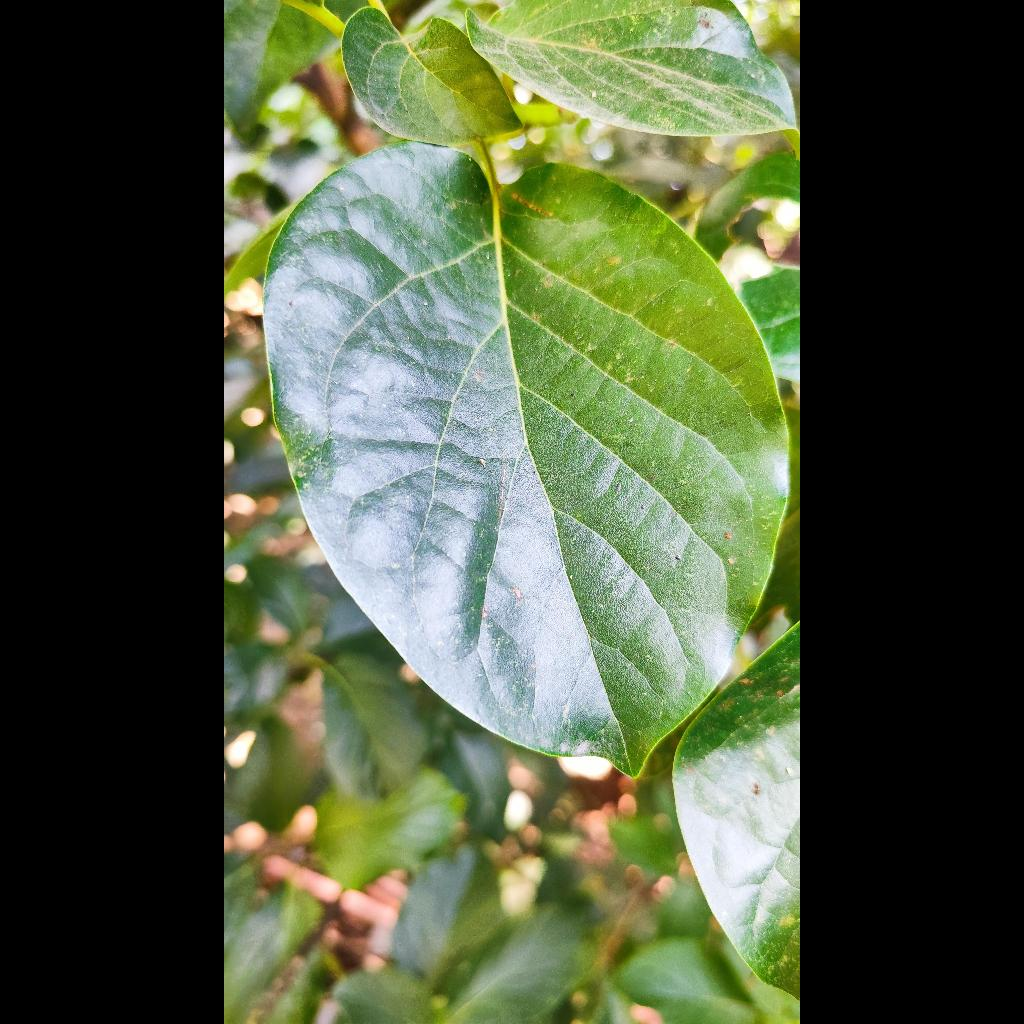Healthy: (265, 143, 786, 774)
